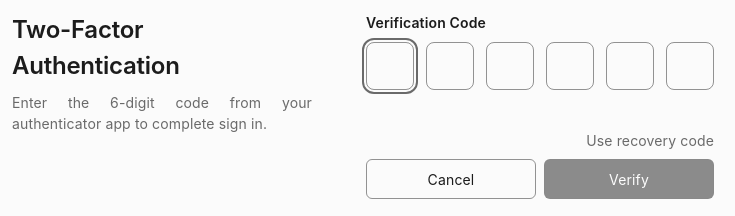
MfaTotpStepV2 › switches to recovery code form when "Use recovery code" clicked
Step 1. Click the button "Use recovery code" → [650, 140], box [586,130,714,151]
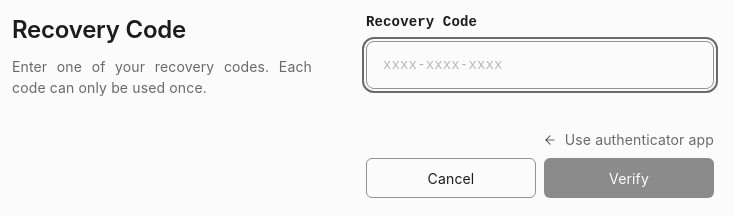
Now the heading "Recovery Code" is shown, box [12,15,186,44]
Now the field with placeholder "xxxx-xxxx-xxxx" is shown, box [383,53,697,77]
